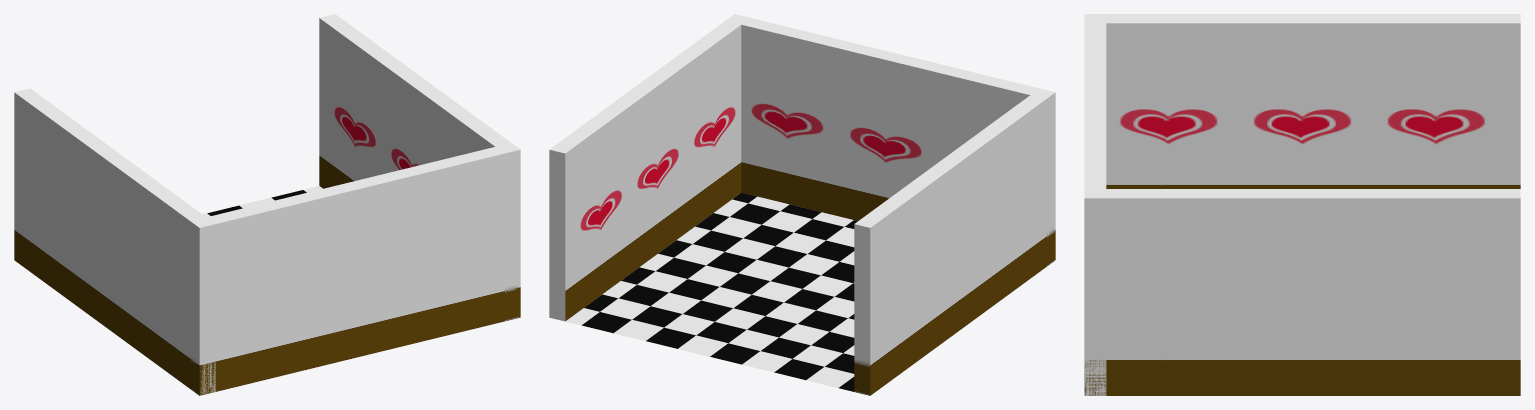
The model's file is Sec_room2.fbx.
3 renders of one model, left to right at view 1: azimuth 30°, elevation 25°; view 2: azimuth 150°, elevation 25°; view 3: azimuth 270°, elevation 25°, orthographic. The views are drawn at different scales.
Parts seen in each view (by area): view 1: pCube13, pCube66, pCube68, pPlane1; view 2: pCube13, pCube68, pCube66, pPlane1; view 3: pCube68, pCube66, pCube13.
Part boxes in pixels (x1=…): pCube13: x1=190, y1=143, x2=520, y2=395; pCube66: x1=14, y1=88, x2=215, y2=395; pCube68: x1=319, y1=14, x2=520, y2=321; pPlane1: x1=203, y1=186, x2=322, y2=217; pCube13: x1=726, y1=14, x2=1055, y2=266; pCube68: x1=549, y1=14, x2=748, y2=321; pCube66: x1=854, y1=88, x2=1055, y2=395; pPlane1: x1=565, y1=192, x2=857, y2=391; pCube68: x1=1084, y1=189, x2=1520, y2=395; pCube66: x1=1085, y1=14, x2=1520, y2=188; pCube13: x1=1084, y1=14, x2=1106, y2=395.
Bounding box in the file's own units: 1000 × 500 × 1000.
Materials: 2 (2 with a texture image).
